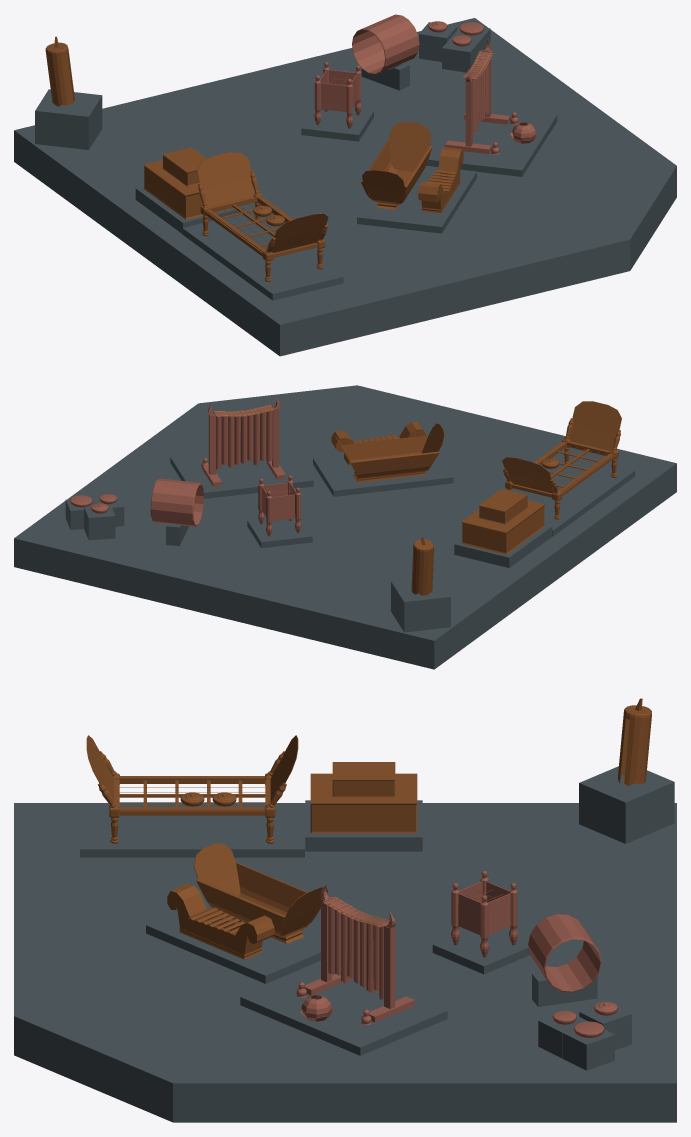
The model's file is Etalase_3.fbx.
3 views of the same model, one above another, from view 1: azimuth 30°, elevation 25°; view 2: azimuth 150°, elevation 25°; view 3: azimuth 270°, elevation 25° (orthographic). The views are drawn at different scales.
Visible parts, largest first — view 1: Cube.391, E3 Kenong, E3 Tempat gambang, E3 Kotak tempat tabuh, E3 Jedhor, E3 Gender, E3 Bonang, E3 Peking, E3 Kentongan; view 2: Cube.391, E3 Kenong, E3 Gender, E3 Kotak tempat tabuh, E3 Tempat gambang, E3 Jedhor, E3 Bonang, E3 Kentongan, E3 Peking; view 3: Cube.391, E3 Kotak tempat tabuh, E3 Gender, E3 Kenong, E3 Tempat gambang, E3 Peking, E3 Jedhor, E3 Bonang, E3 Kentongan, E3 Fragmen Siter.
Part boxes in pixels (box(x1,y1,x2,y2)): Cube.391: box(14, 18, 676, 356); E3 Kenong: box(197, 152, 328, 281); E3 Tempat gambang: box(361, 121, 432, 209); E3 Kotak tempat tabuh: box(143, 147, 233, 219); E3 Jedhor: box(352, 14, 419, 74); E3 Gender: box(445, 39, 518, 154); E3 Bonang: box(314, 62, 361, 128); E3 Peking: box(418, 147, 463, 213); E3 Kentongan: box(45, 36, 74, 106); Cube.391: box(14, 385, 676, 669); E3 Kenong: box(502, 401, 621, 519); E3 Gender: box(201, 397, 285, 486); E3 Kotak tempat tabuh: box(461, 488, 545, 554); E3 Tempat gambang: box(335, 423, 444, 482); E3 Jedhor: box(150, 478, 203, 526); E3 Bonang: box(258, 475, 301, 536); E3 Kentongan: box(411, 536, 433, 595); E3 Peking: box(331, 422, 425, 464); Cube.391: box(14, 766, 676, 1122); E3 Kotak tempat tabuh: box(310, 762, 417, 833); E3 Gender: box(296, 885, 414, 1025); E3 Kenong: box(86, 735, 298, 843); E3 Tempat gambang: box(194, 843, 327, 943); E3 Peking: box(167, 883, 274, 959); E3 Jedhor: box(528, 914, 601, 992); E3 Bonang: box(451, 871, 517, 957); E3 Kentongan: box(618, 698, 651, 786); E3 Fragmen Siter: box(300, 994, 333, 1021).
Size of the model in its own units: 500 by 133 by 500.
